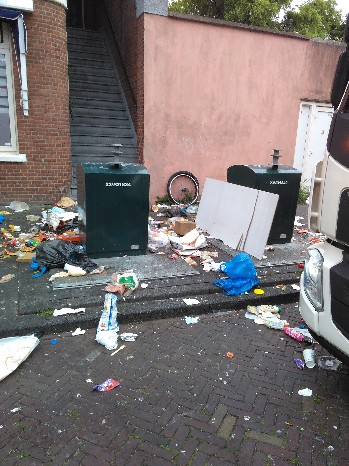Container: (77, 146, 155, 240), (239, 158, 296, 206)
Plastic: (100, 294, 117, 349)
Rest: (196, 177, 281, 244), (23, 228, 84, 268), (209, 255, 250, 289), (166, 216, 200, 242)
